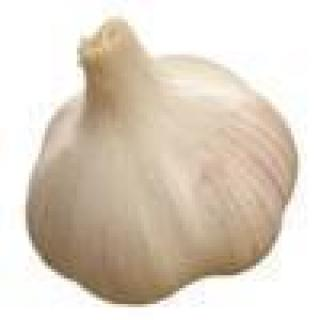Bawang Putih: (27, 20, 299, 308)
